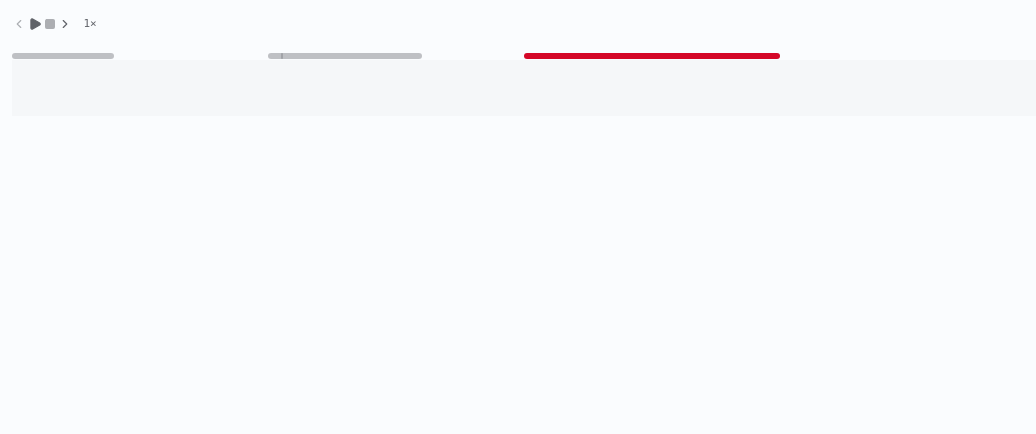
Test: Timeline range selection › a click dismisses the active selection and seeks the full action set
The image size is (1036, 434).
Press the mouse on the element with test id "timeline-strip" at (524, 76), box [12, 36, 1035, 116]
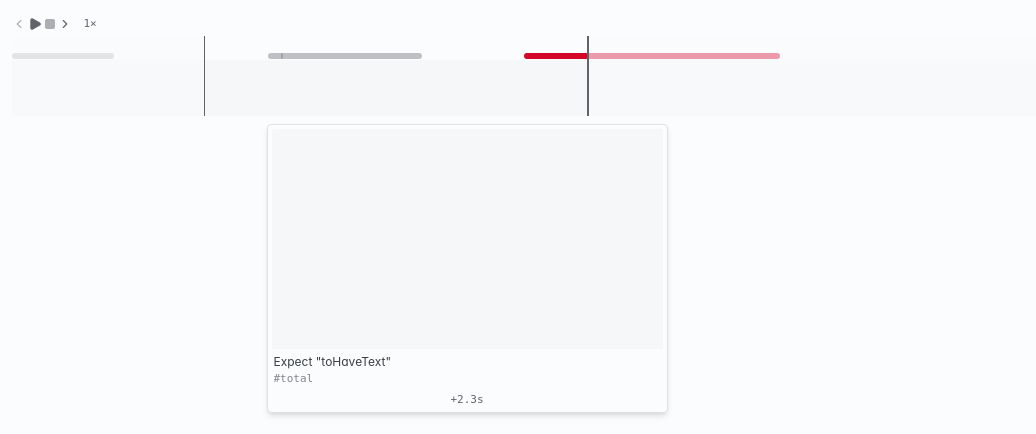
expect the element with test id "timeline-selection" is shown: met
Press the mouse on the element with test id "timeline-strip" at (524, 76), box [12, 36, 1035, 116]
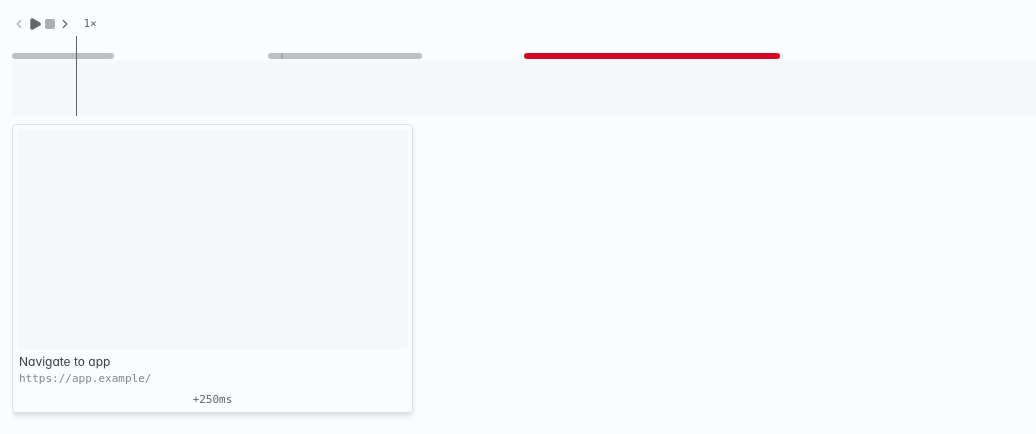
expect the element with test id "timeline-selection" is gone: met
